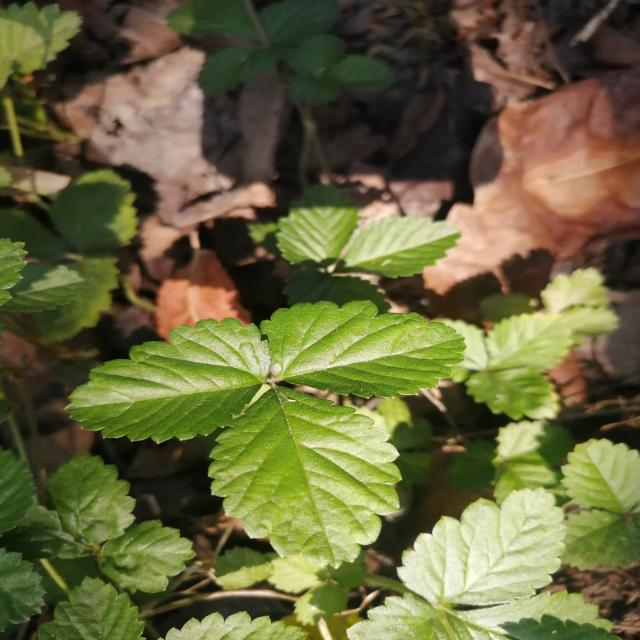Mock_strawberry: (110, 288, 446, 567)
